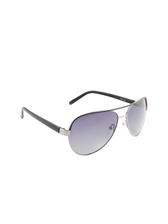glasses: (18, 86, 151, 159)
